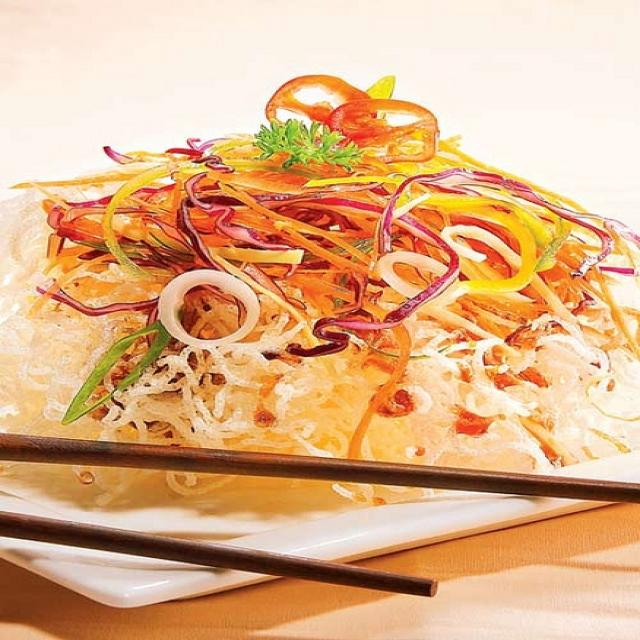面条主食: (52, 51, 636, 559)
